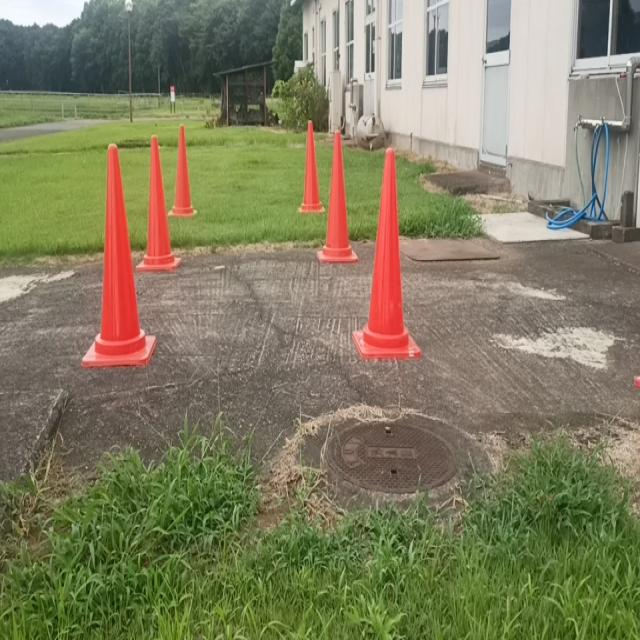cone: (92, 136, 138, 398), (366, 132, 417, 366), (142, 126, 171, 287), (326, 120, 353, 284), (171, 118, 202, 222), (299, 106, 321, 219)
